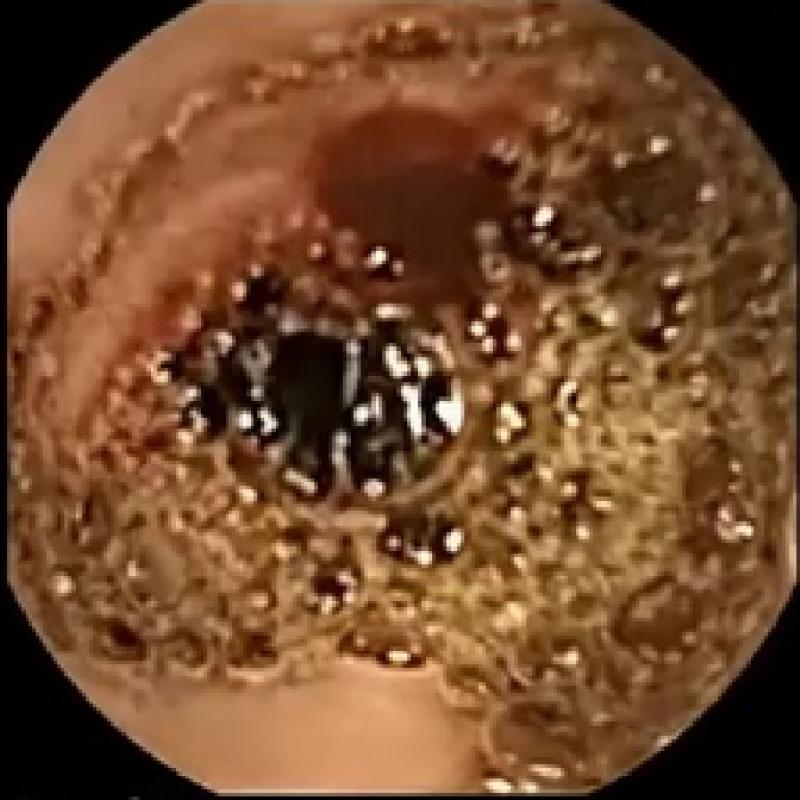bleeding: (200, 121, 518, 522)
